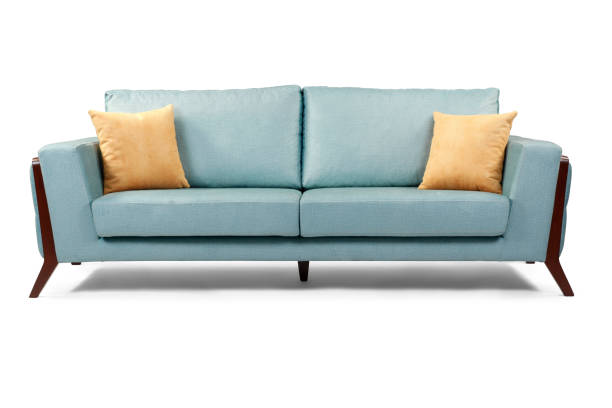couch: (23, 53, 586, 325)
